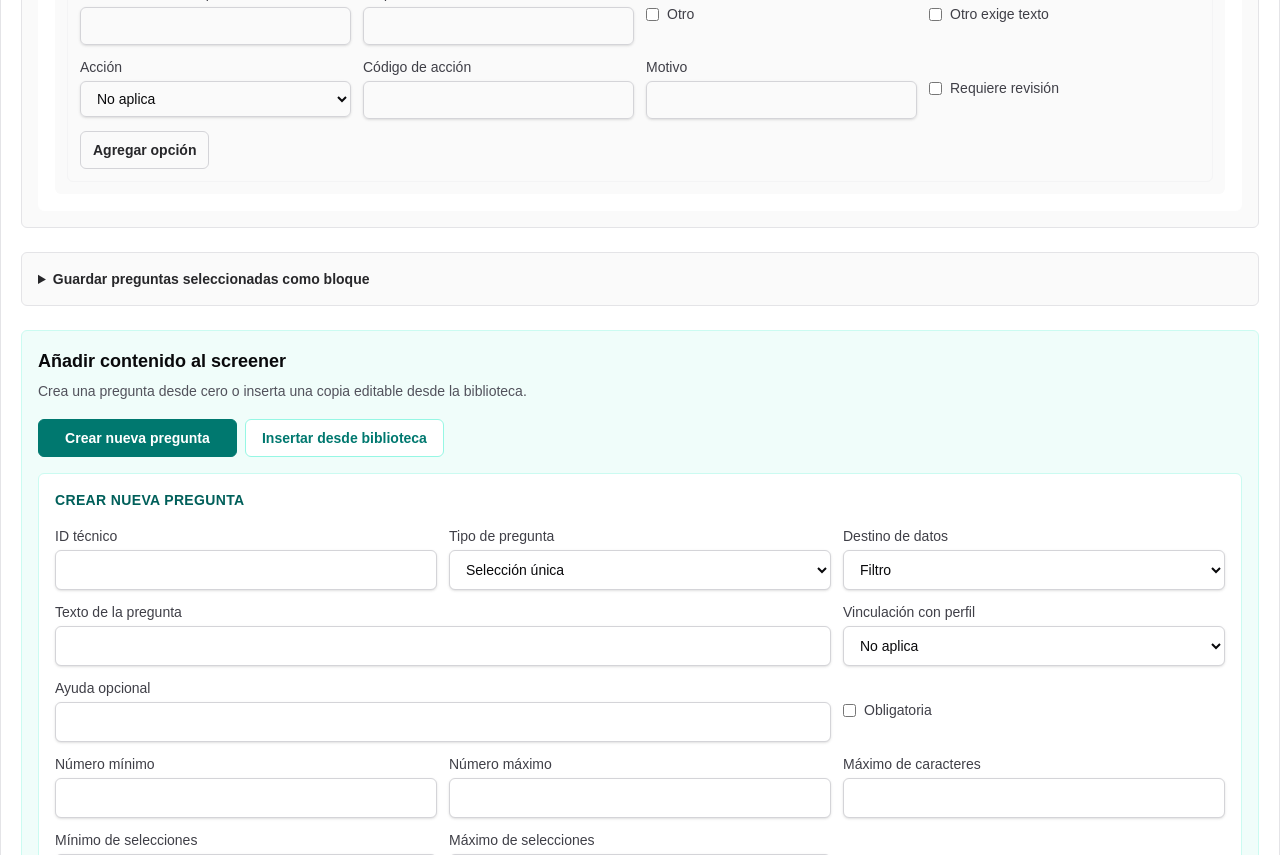
ScreenerBuilder › ubica insertar desde biblioteca dentro de anadir contenido, no en la parte superior
(page scrolled)
Step 1. Click the tab "Insertar desde biblioteca" → {"x": 344, "y": 438}, box [245,419,444,457]
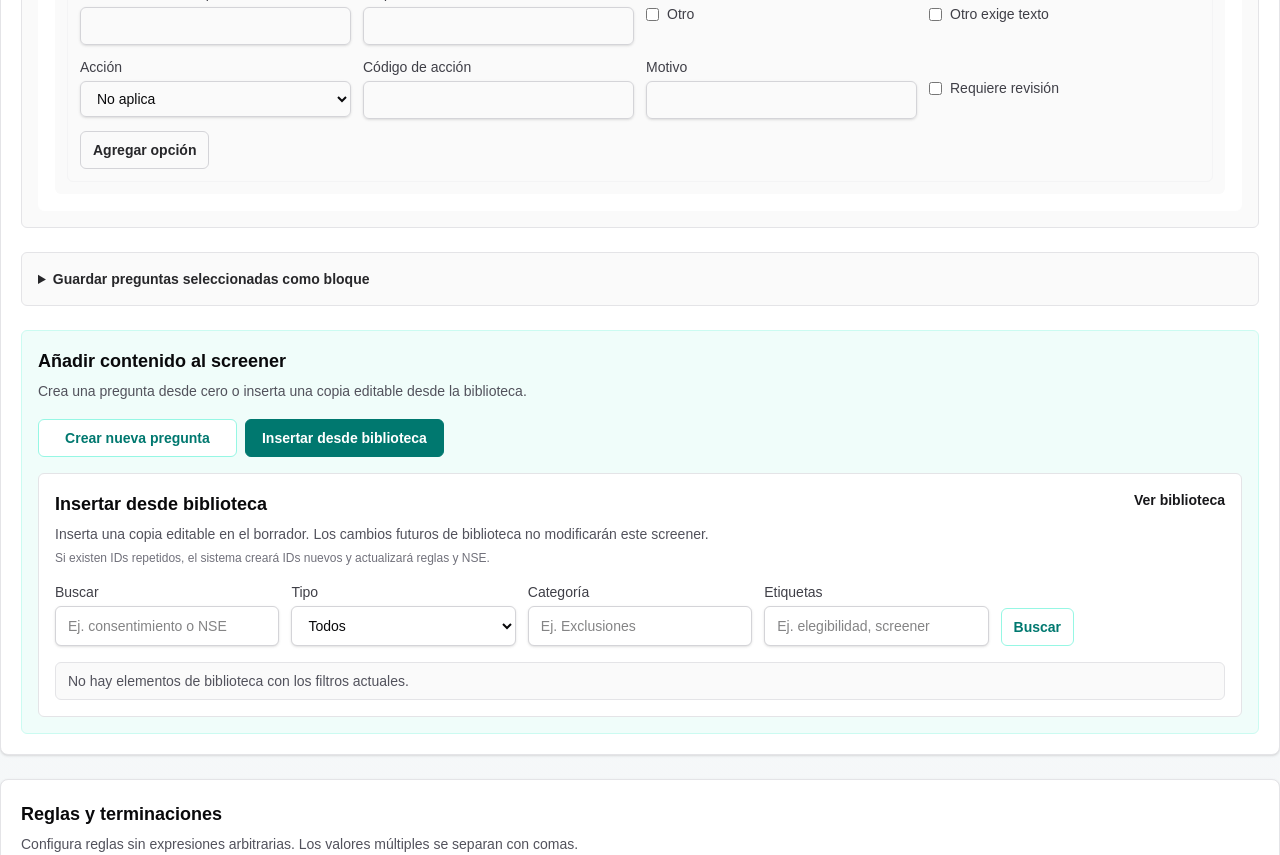
Now the heading "Insertar desde biblioteca" is shown, box [55,494,267,514]
